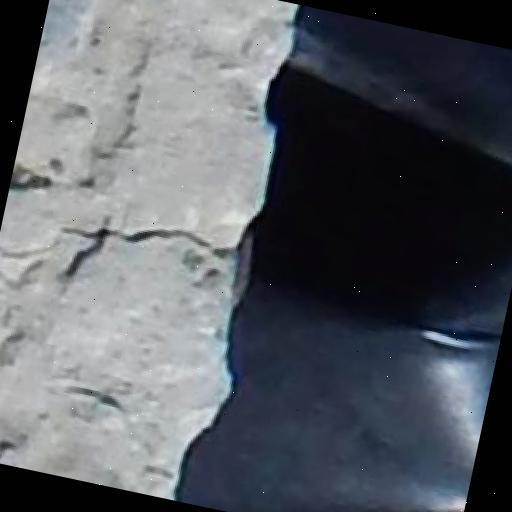spalling: (0, 210, 230, 287), (51, 371, 135, 427)
